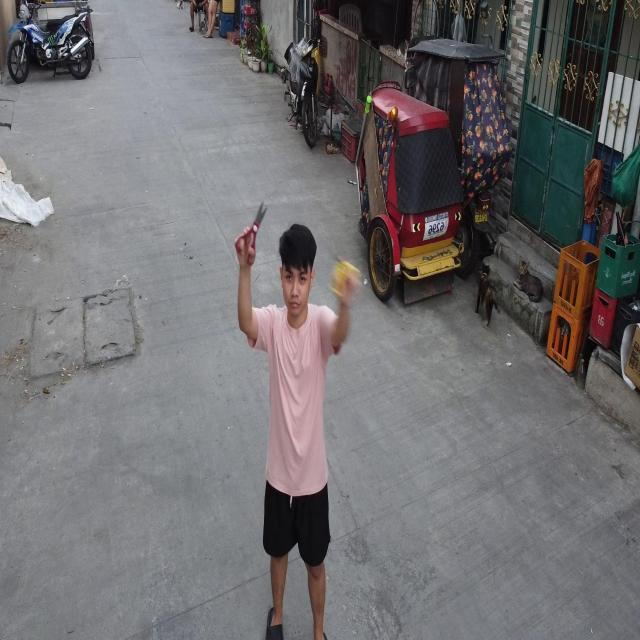scissor: (235, 202, 266, 265)
